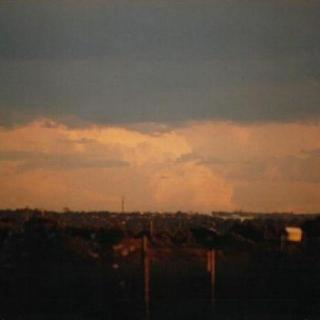Stratocumulus: (0, 0, 320, 221)
